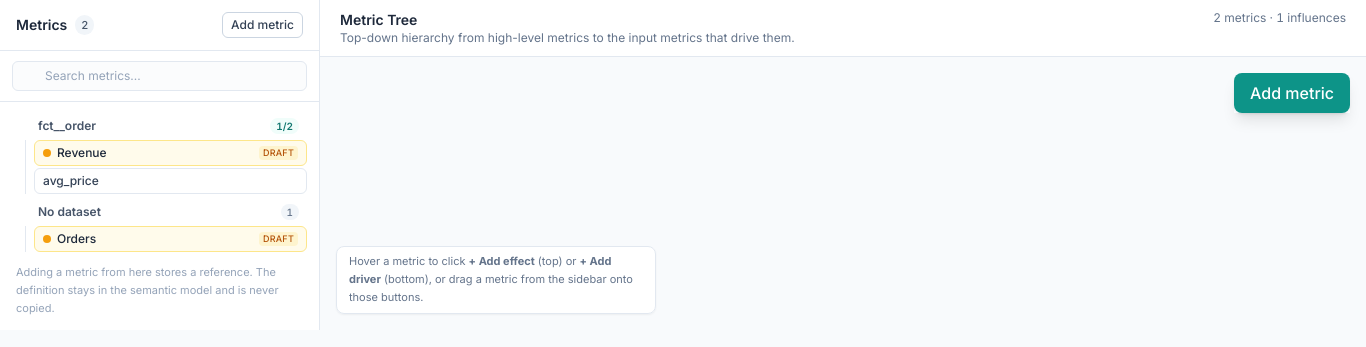
Test case: metrics-tree page › discards a new metric on cancel without touching the tree or the file
Click the button with test id "metric-sidebar-add".
click(263, 25)  # box [222,12,303,38]
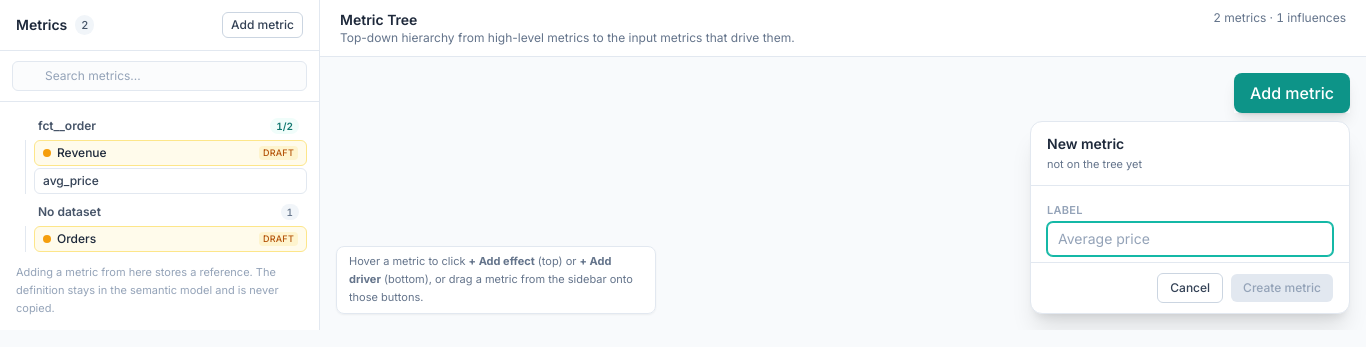
Type "Half done" into the field with test id "metric-field-label".
click(1190, 239); type("Half done")  # box [1047,222,1333,256]
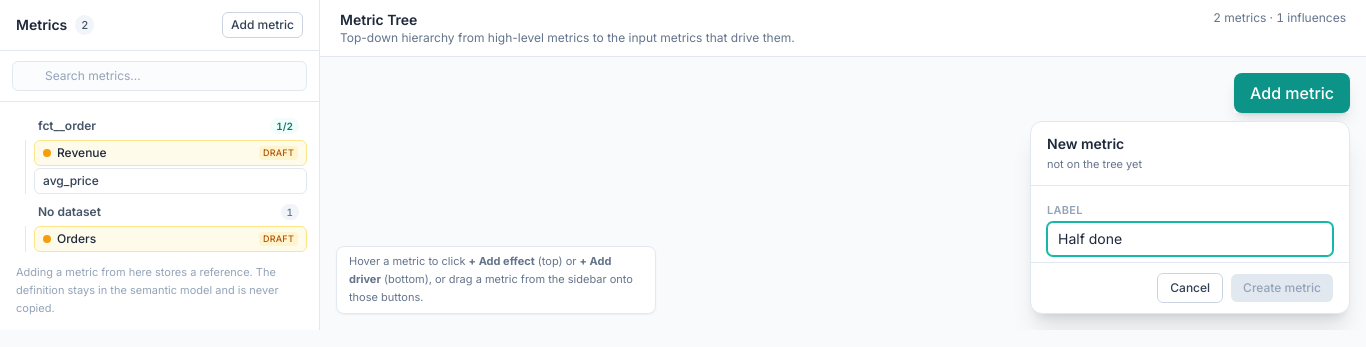
Click the button with test id "metric-cancel".
click(1190, 288)  # box [1157,273,1223,303]
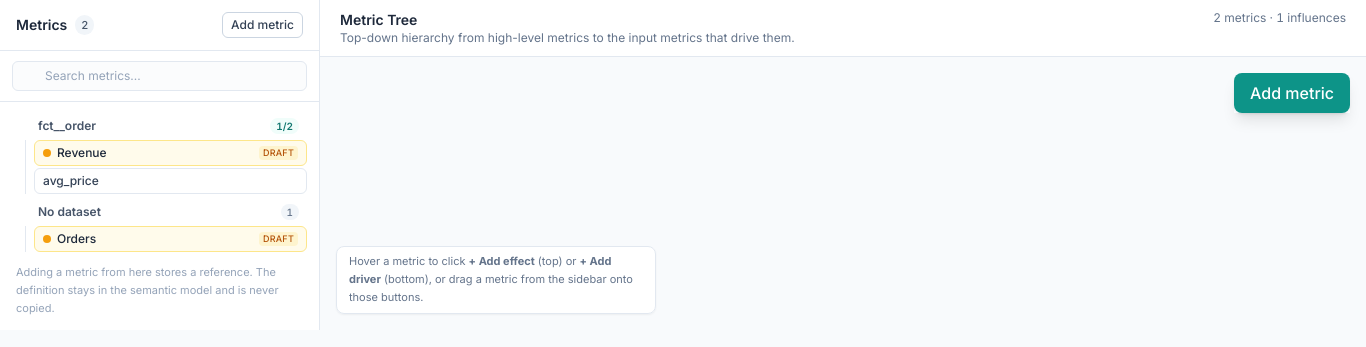
Now the element with test id "metric-detail-panel" is gone
